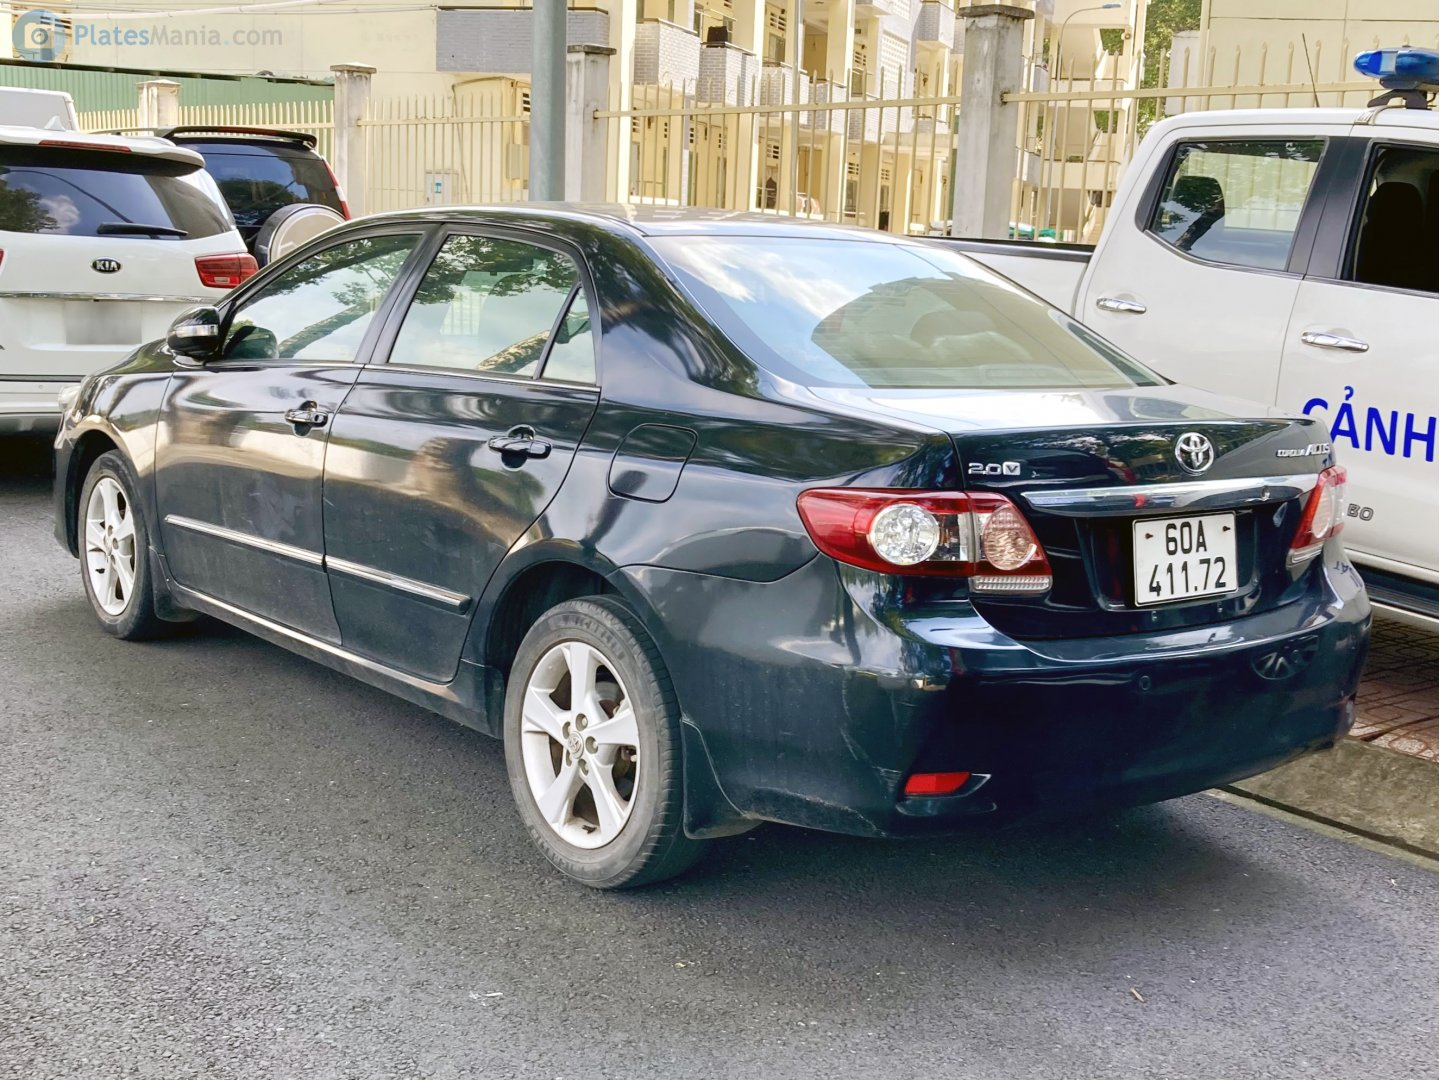bien_so: (1131, 513, 1238, 606)
